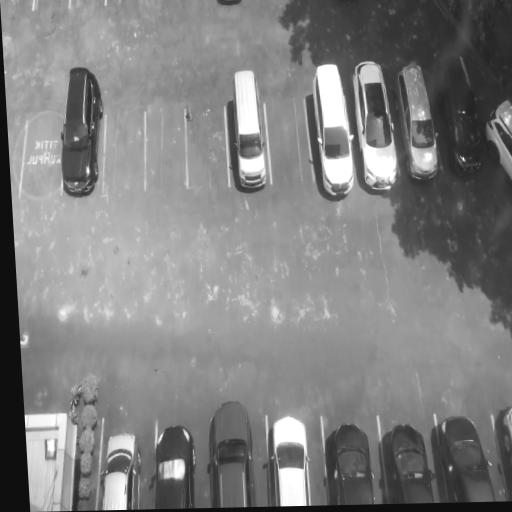Car: (54, 61, 110, 200), (308, 56, 358, 201), (223, 62, 270, 197), (352, 56, 399, 189), (431, 405, 497, 499), (439, 50, 486, 180), (398, 56, 442, 185), (374, 409, 434, 502), (209, 391, 255, 506), (321, 413, 375, 505), (264, 414, 311, 507), (151, 417, 196, 507), (95, 426, 140, 511), (479, 90, 512, 184), (490, 405, 512, 498), (211, 0, 244, 14)
Space Available: (263, 76, 313, 201), (182, 85, 229, 196), (13, 98, 64, 199), (99, 98, 148, 202), (139, 94, 186, 202), (69, 0, 107, 19), (177, 0, 218, 16), (106, 0, 144, 16), (34, 2, 71, 18), (142, 0, 181, 15)
